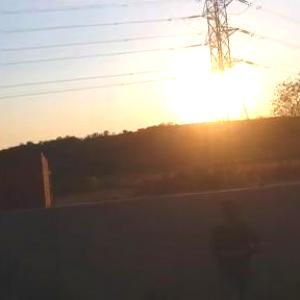follow: (212, 192, 269, 299)
